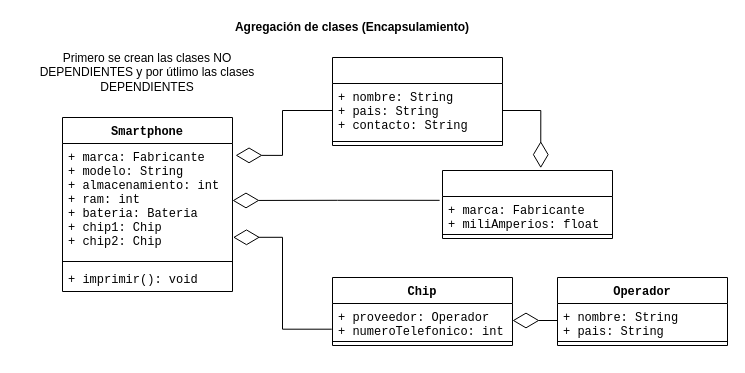
Some shapes in this 745 by 373 pixel diagram are drawn without their labels. Each missing label, with the box of its shape:
Bateria: (442, 170, 612, 238)
Fabricante: (332, 56, 502, 146)
